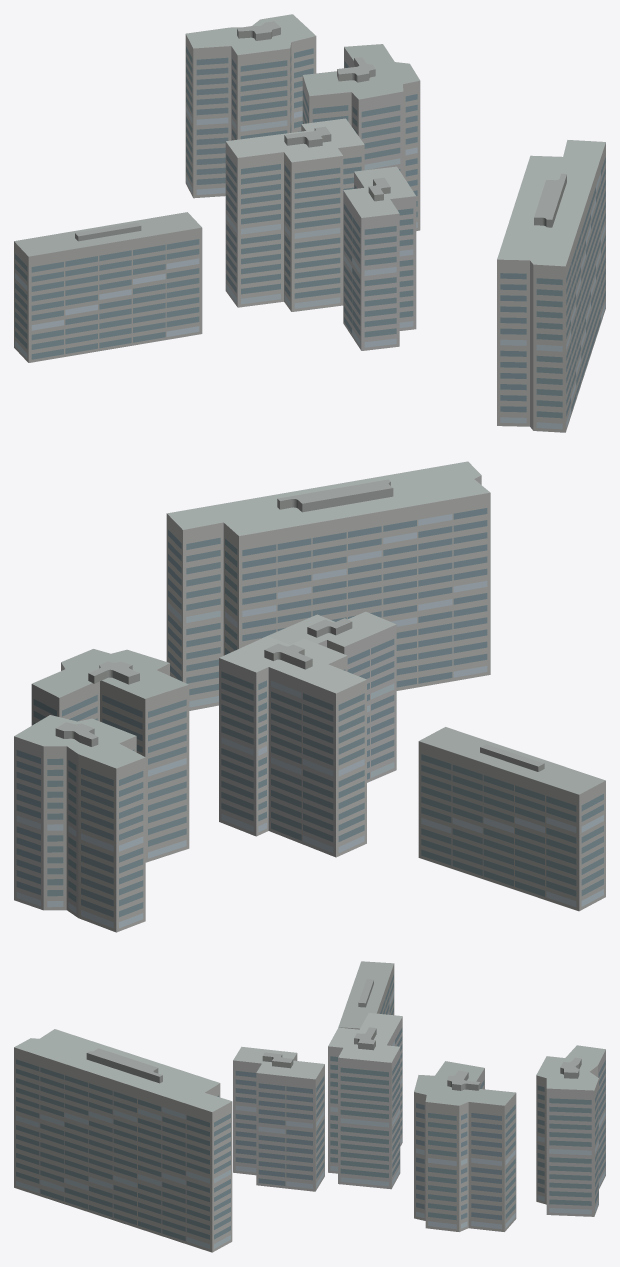
The model's file is apt-a10080701.glb.
3 views of the same model, one above another, from view 1: azimuth 30°, elevation 25°; view 2: azimuth 150°, elevation 25°; view 3: azimuth 270°, elevation 25° (orthographic). The views are drawn at different scales.
Parts seen in each view (by area): view 1: apt-a10080701; view 2: apt-a10080701; view 3: apt-a10080701.
Boxes of the visible parts, x1,y1,x2,y2 form: apt-a10080701: (14, 14, 605, 432); apt-a10080701: (14, 461, 605, 932); apt-a10080701: (14, 961, 605, 1252).
Bounding box in the file's own units: 147 × 50 × 182.
